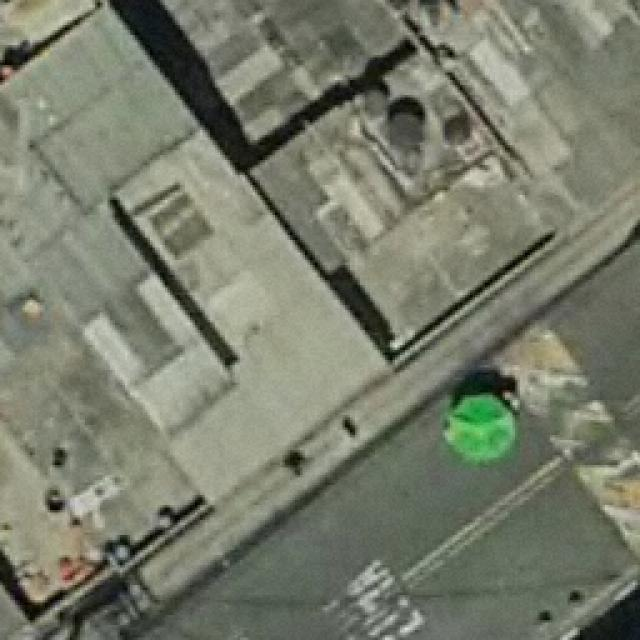vendedor_ambulante: (443, 384, 523, 464)
